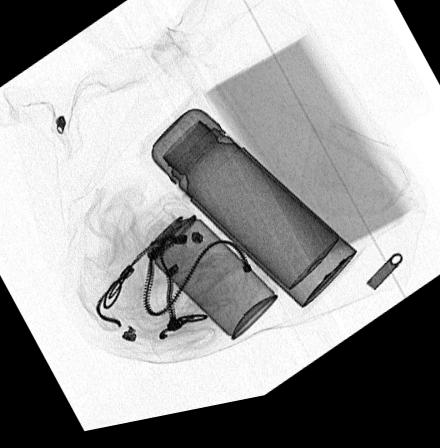Sprayer: (127, 200, 279, 350)
